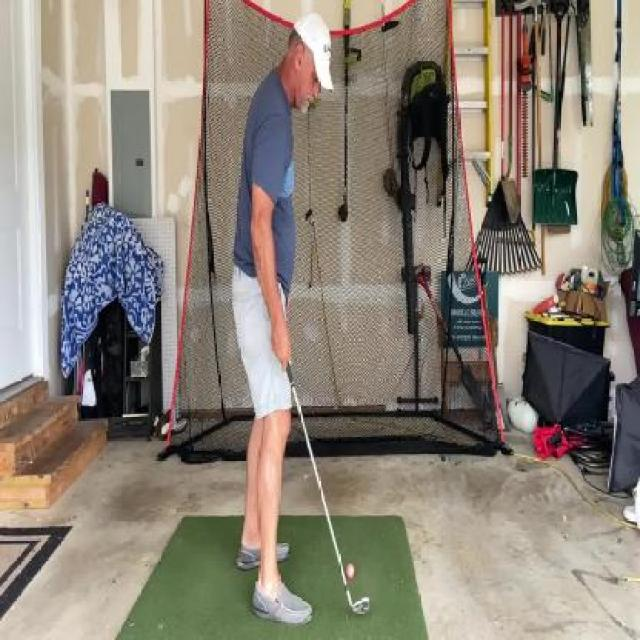club head: (345, 584, 370, 616)
